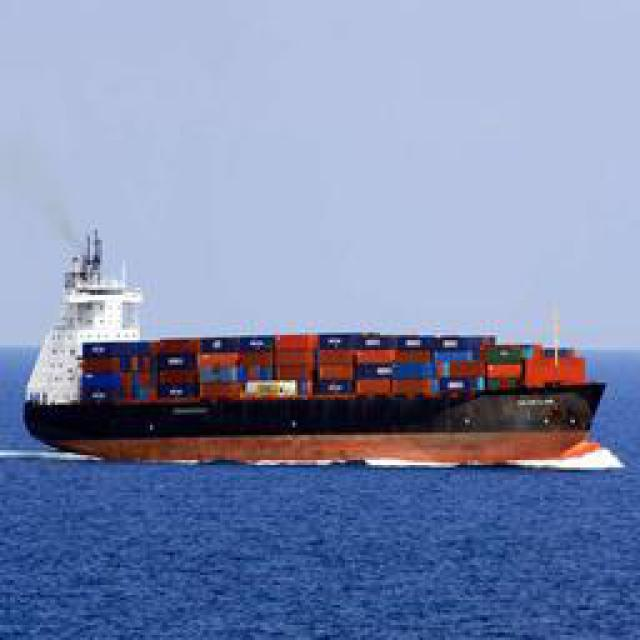Ship: (16, 272, 611, 462)
